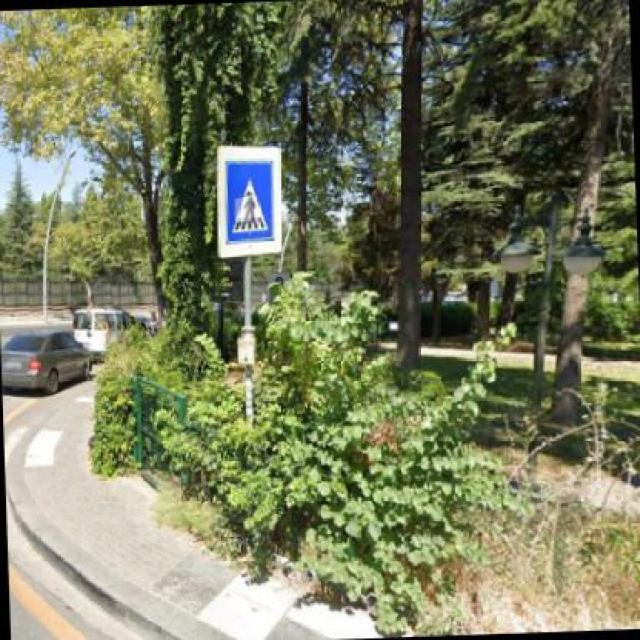yaya: (226, 161, 273, 239)
